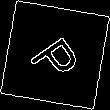P_NE: (24, 25, 86, 85)
